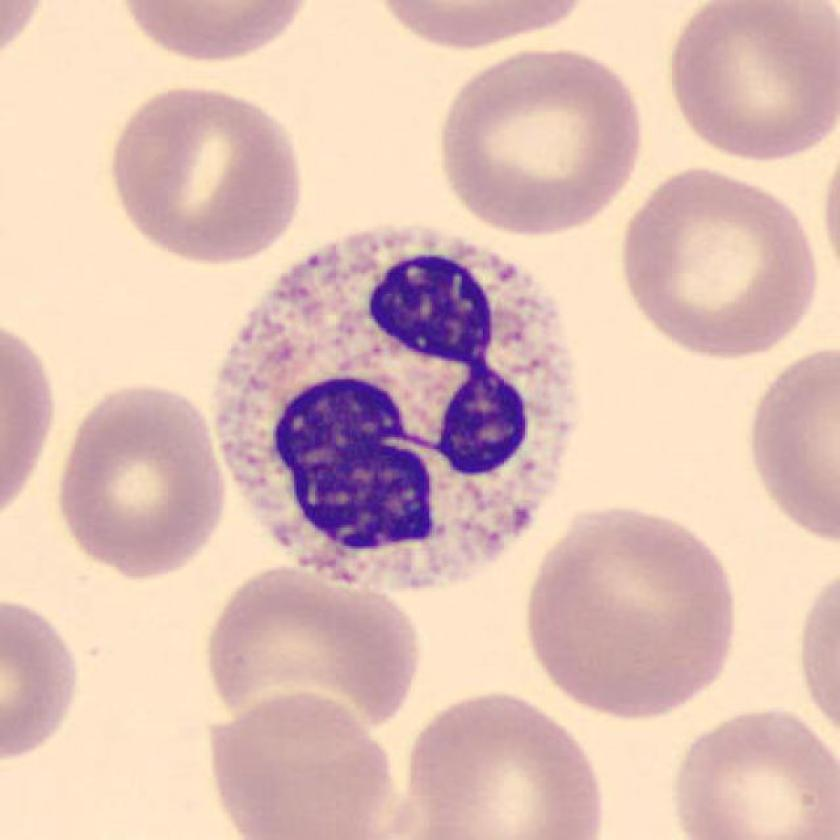neutrophil: (213, 223, 579, 593)
